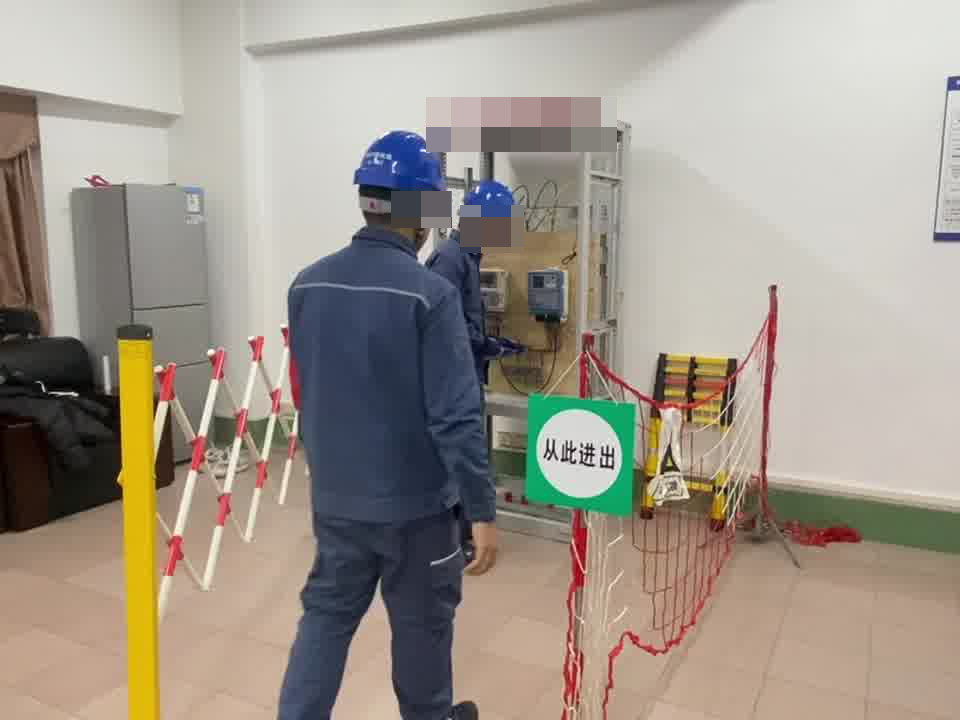downsuit: (273, 527, 471, 720)
glove: (482, 329, 526, 361)
halt: (351, 128, 449, 243), (461, 179, 519, 245)
hand: (465, 517, 500, 573)
inear: (404, 194, 433, 242), (468, 210, 491, 243)
intosign: (526, 397, 637, 511)
person: (266, 130, 497, 720)
upsuit: (286, 235, 495, 515)
